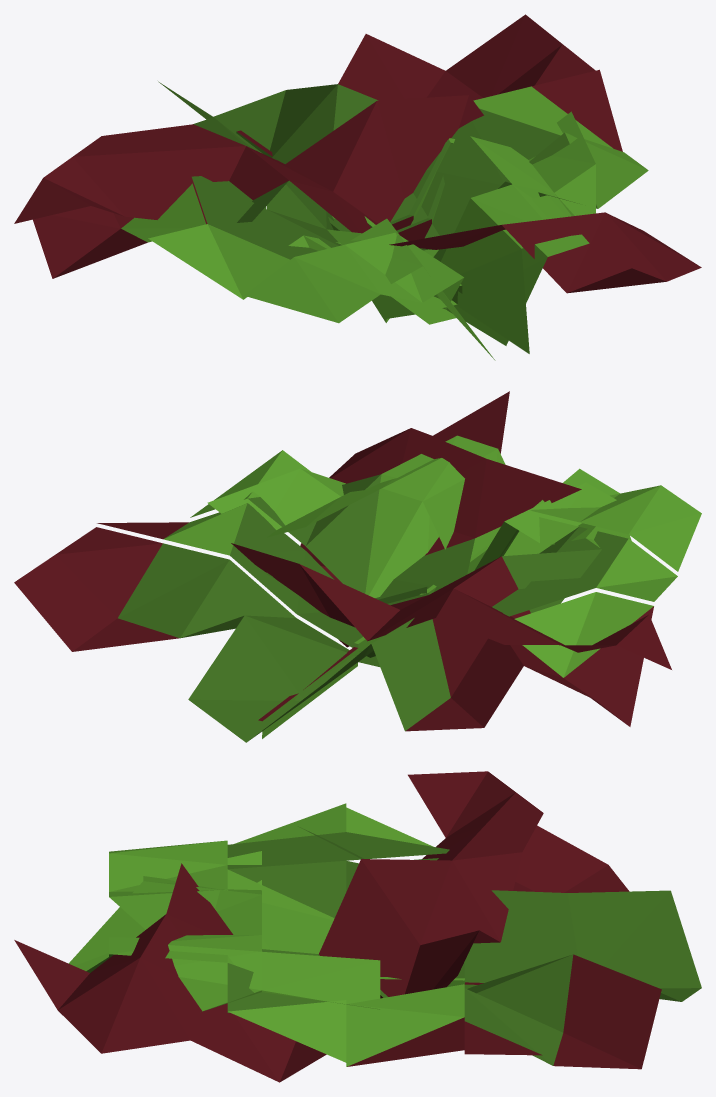
Rendered from sangchu_cut.fbx.
3 views of the same model, one above another, from view 1: azimuth 30°, elevation 25°; view 2: azimuth 150°, elevation 25°; view 3: azimuth 270°, elevation 25° (orthographic). The views are drawn at different scales.
Visible parts, largest first — view 1: sangchu_cut; view 2: sangchu_cut; view 3: sangchu_cut.
Boxes of the visible parts, <box> form: sangchu_cut: <box>14,14,701,360</box>; sangchu_cut: <box>14,391,701,742</box>; sangchu_cut: <box>14,771,701,1082</box>.
Size of the model in its own units: 143 by 36.59 by 145.
